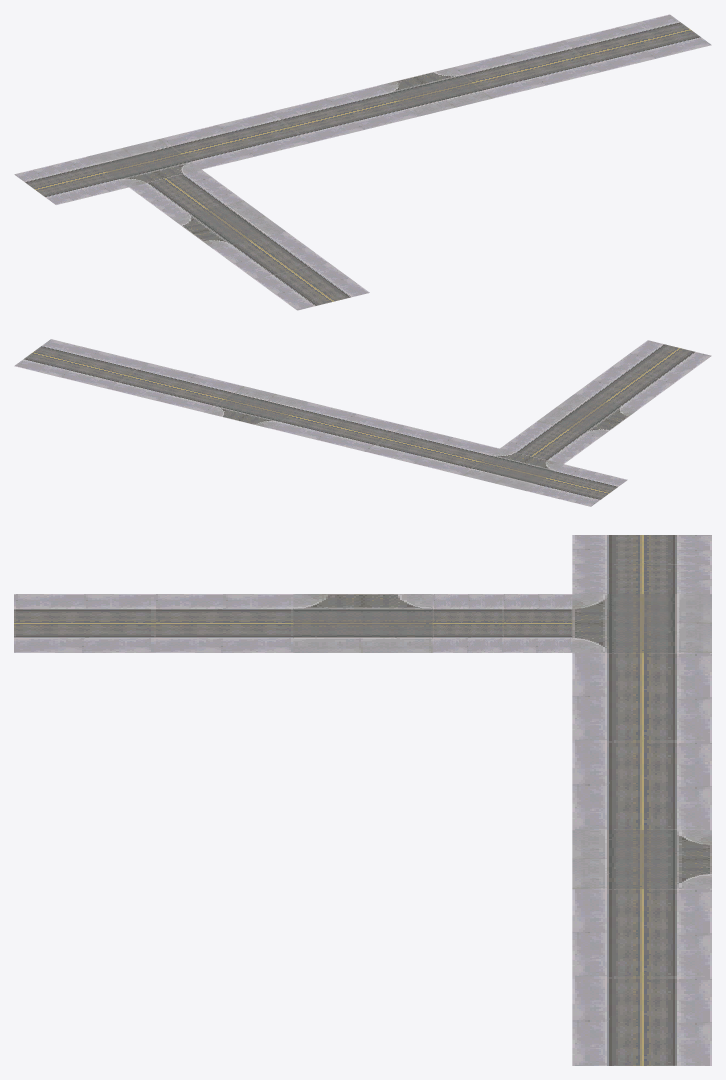
The model's file is lodaswedge19.obj.
3 views of the same model, one above another, from view 1: azimuth 30°, elevation 25°; view 2: azimuth 150°, elevation 25°; view 3: azimuth 270°, elevation 25° (orthographic). The views are drawn at different scales.
Parts seen in each view (by area): view 1: lodasWedge19; view 2: lodasWedge19; view 3: lodasWedge19.
Boxes of the visible parts, x1,y1,x2,y2 form: lodasWedge19: (14, 14, 711, 310); lodasWedge19: (14, 339, 711, 506); lodasWedge19: (14, 535, 711, 1065).
Size of the model in its own units: 180 by 1.5e-05 by 100.
2 materials, 2 textured.
